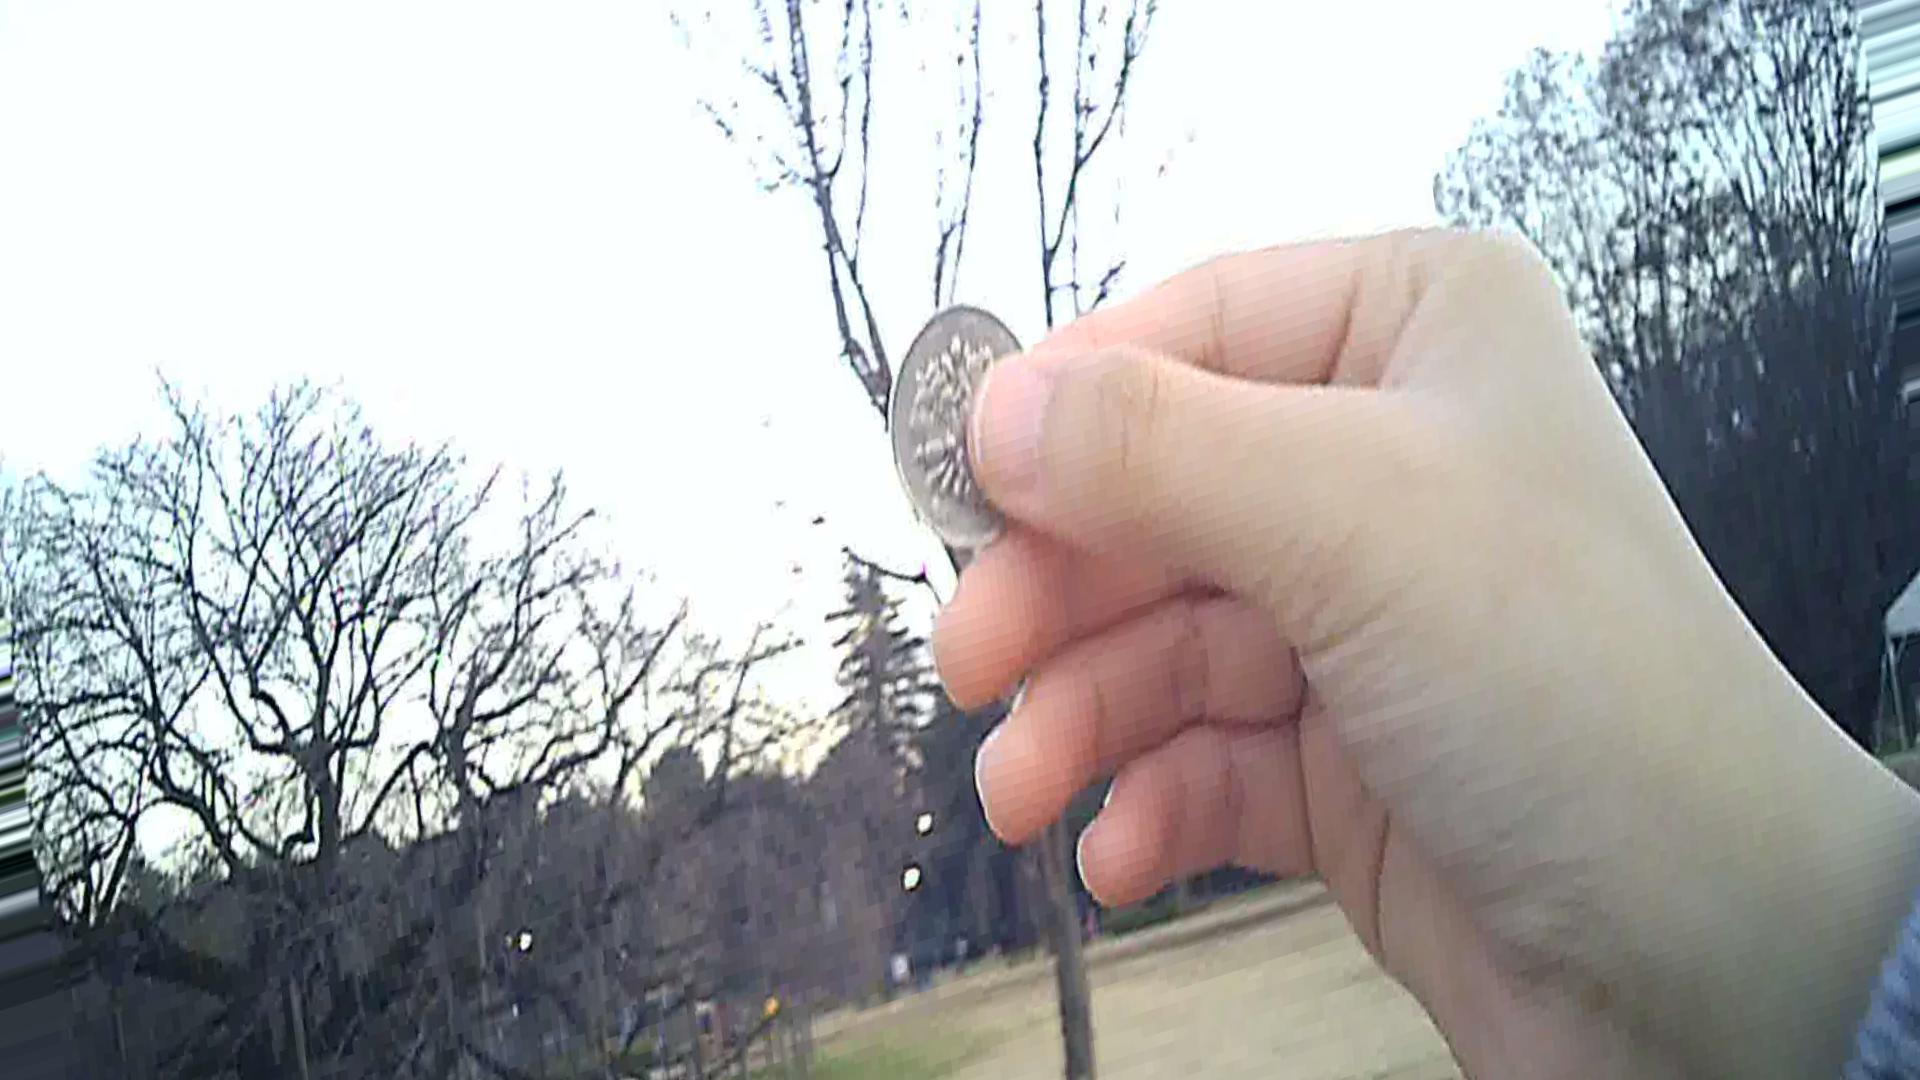100 Yen: (894, 295, 1058, 574)
